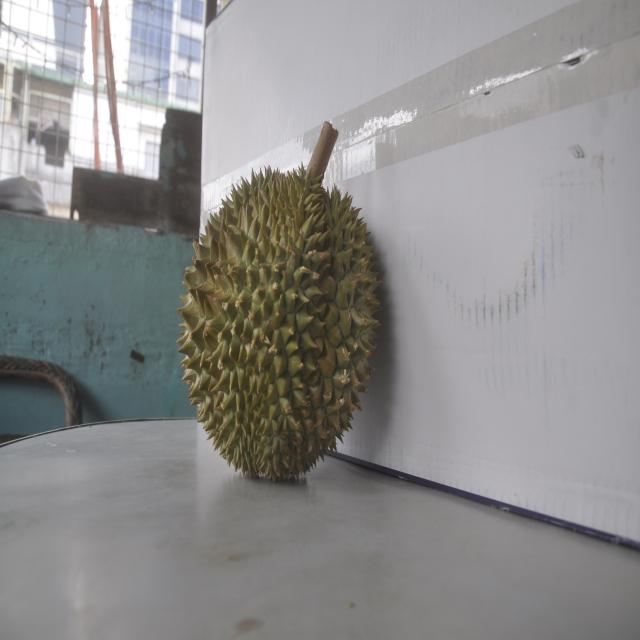mature: (181, 139, 378, 482)
